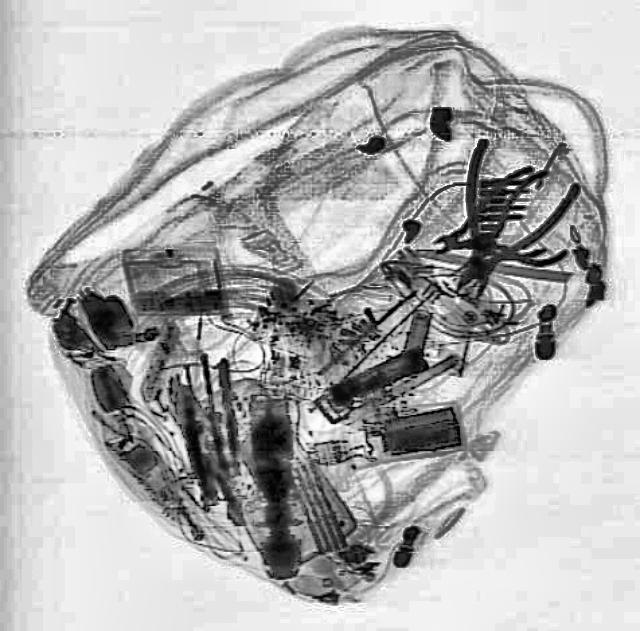Pliers: (410, 134, 582, 316), (416, 162, 566, 284)
